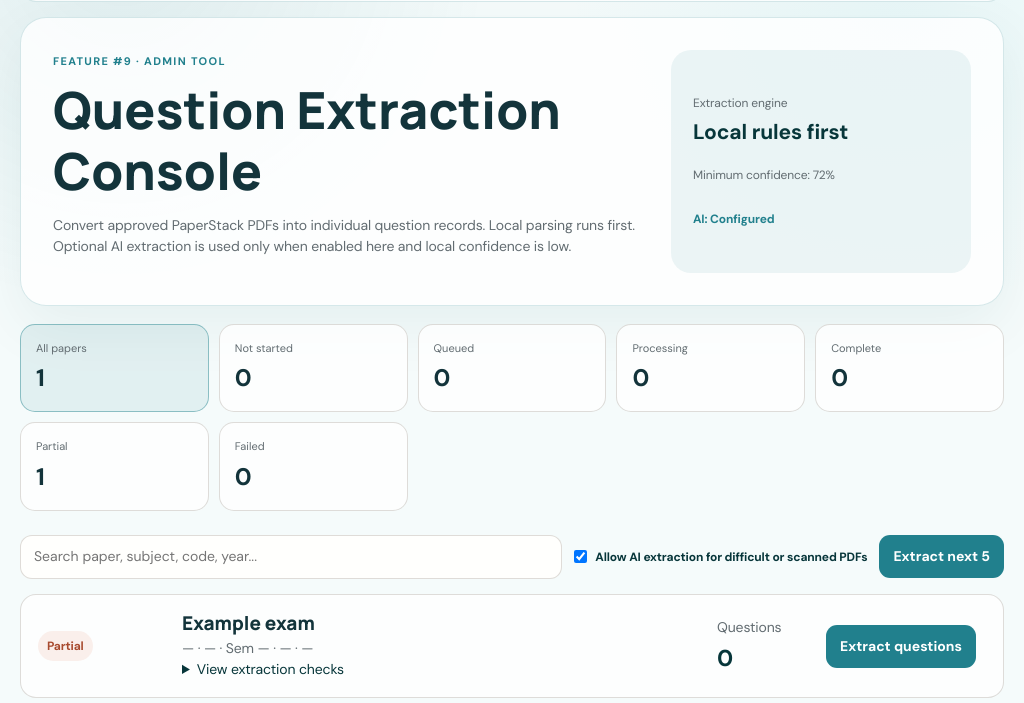
it: shows missing-source warnings after extraction and after reloading the paper list
(page scrolled)
Click the button "Extract questions".
click(901, 646)  # box [826,625,976,668]
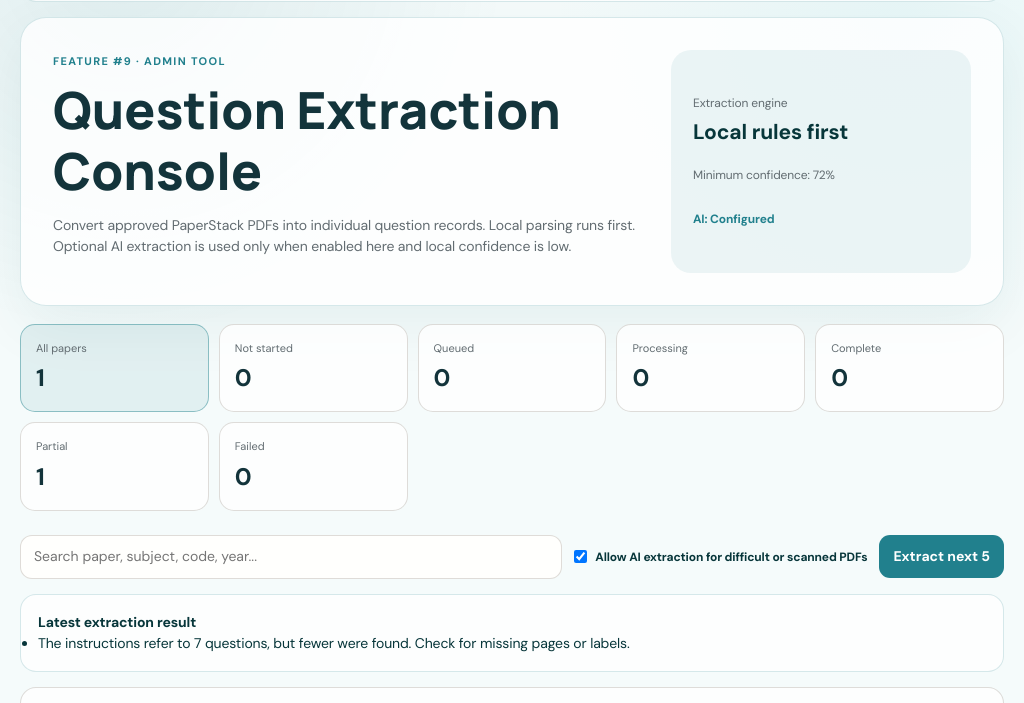
Now the list named "Extraction checks" shows "The instructions refer to 7 questions, but fewer were found. Check for missing pages or labels.", box [38,634,630,652]
